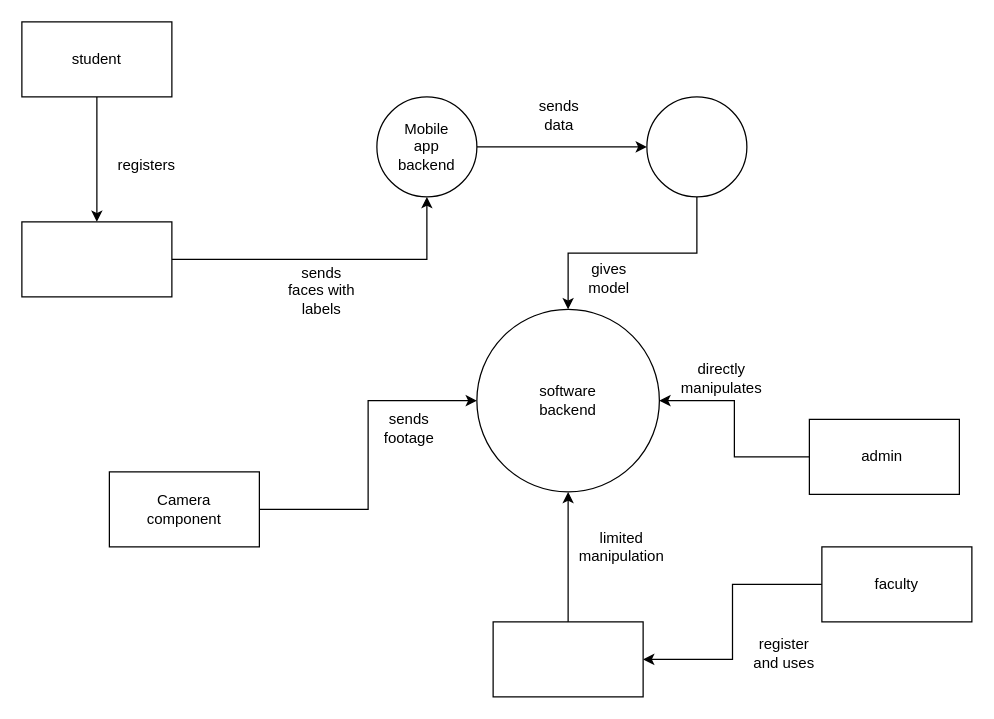
The diagram is 994 pixels wide and 719 high, and some of its shapes have lost their labels. Each missing label, with the box of its shape:
Face recognition trainer module: (646, 96, 747, 197)
faculty front end: (492, 621, 643, 697)
mobile application: (21, 221, 172, 297)
